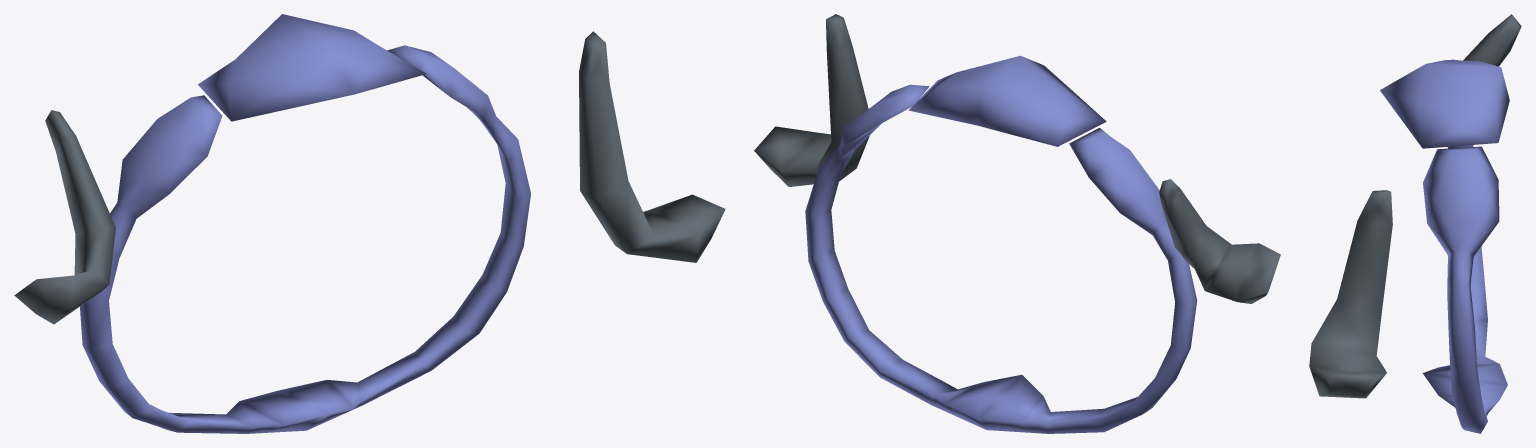
The model's file is belt.fbx.
3 views of the same model, side by side, from view 1: azimuth 30°, elevation 25°; view 2: azimuth 150°, elevation 25°; view 3: azimuth 270°, elevation 25° (orthographic). The views are drawn at different scales.
Parts seen in each view (by area): view 1: s.0115, s.0112, s.0121, s.0120; view 2: s.0115, s.0112, s.0121, s.0120; view 3: s.0115, s.0121, s.0112, s.0120.
Part boxes in pixels (<box>): s.0115: <box>80,45,530,433</box>; s.0112: <box>198,14,426,121</box>; s.0121: <box>579,31,725,262</box>; s.0120: <box>14,110,115,324</box>; s.0115: <box>805,84,1197,433</box>; s.0112: <box>908,55,1106,146</box>; s.0121: <box>754,14,869,186</box>; s.0120: <box>1159,179,1280,303</box>; s.0115: <box>1422,59,1507,433</box>; s.0121: <box>1309,190,1392,398</box>; s.0112: <box>1380,60,1509,148</box>; s.0120: <box>1463,14,1521,66</box>.
Bounding box in the file's own units: 0.4222 × 0.1449 × 0.2541.
